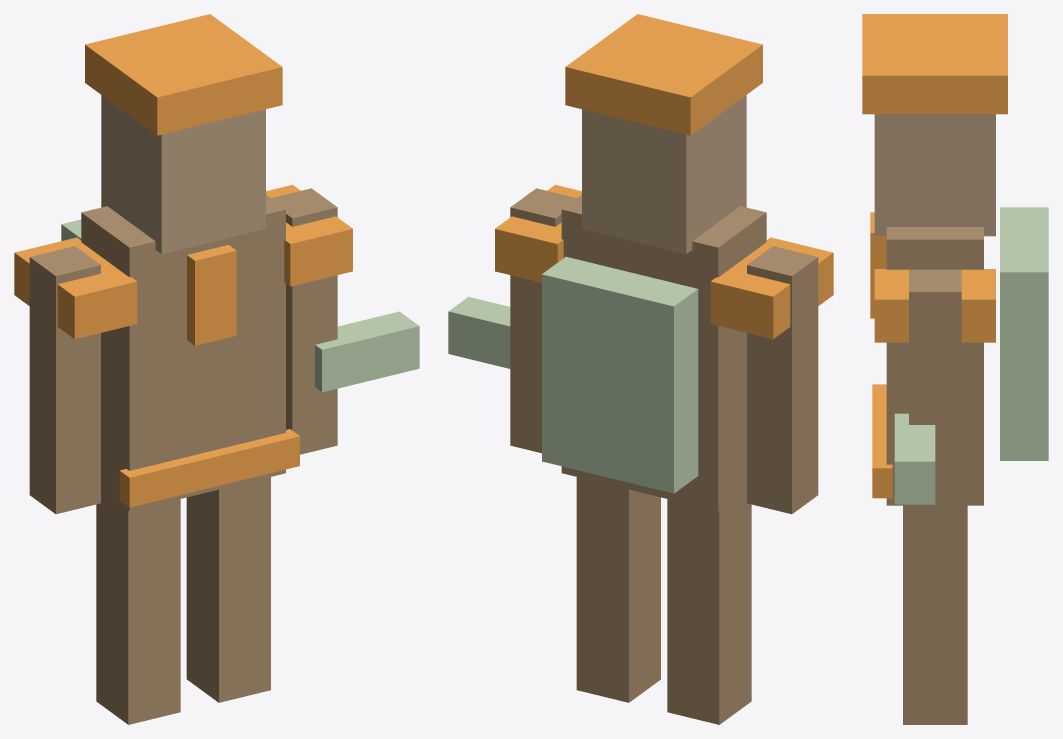
File: 11_maelis_glassroot_runner_of_verse.glb
3 views of the same model, side by side, from view 1: azimuth 30°, elevation 25°; view 2: azimuth 150°, elevation 25°; view 3: azimuth 270°, elevation 25° (orthographic).
Visible parts, largest first — view 1: Maelis Glassroot, Runner of Verse; view 2: Maelis Glassroot, Runner of Verse; view 3: Maelis Glassroot, Runner of Verse.
Part boxes in pixels (<box>): Maelis Glassroot, Runner of Verse: <box>14,14,419,724</box>; Maelis Glassroot, Runner of Verse: <box>448,14,833,724</box>; Maelis Glassroot, Runner of Verse: <box>862,14,1048,724</box>.
Size of the model in its own units: 0.9769 by 1.68 by 0.4384.
